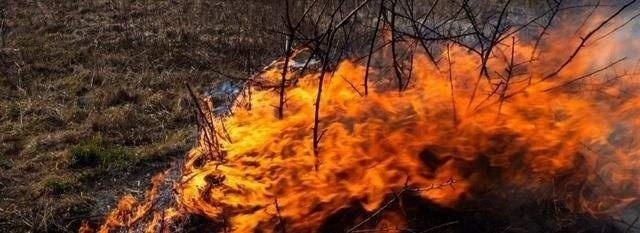fire: (172, 7, 635, 212)
